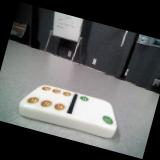domino: (19, 86, 116, 138)
